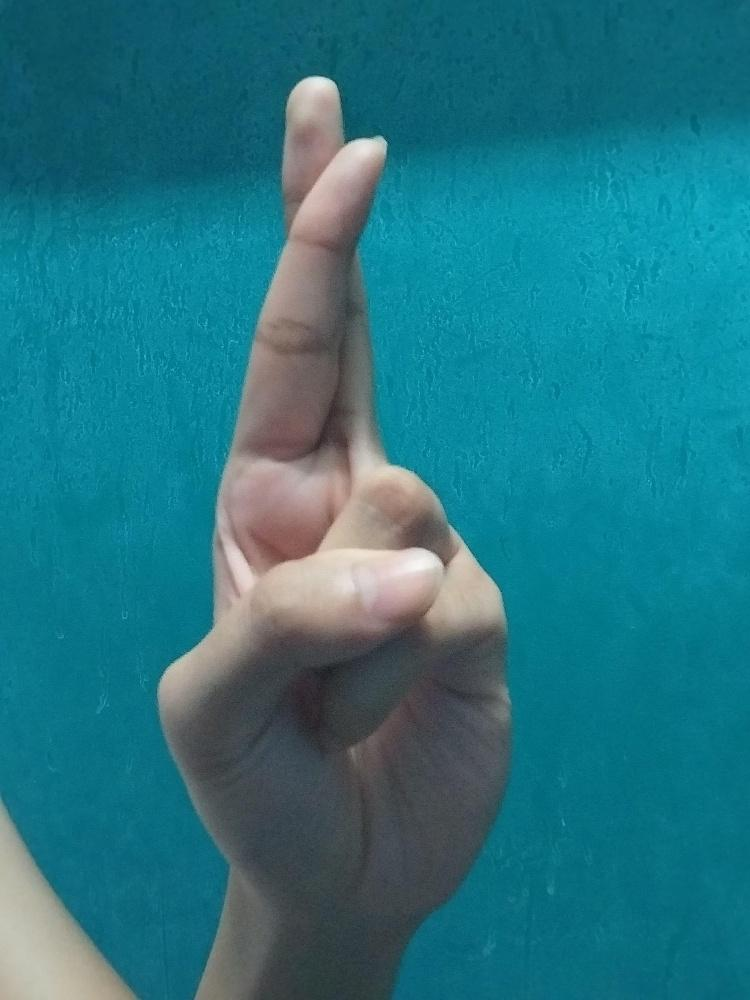r: (152, 73, 518, 920)
